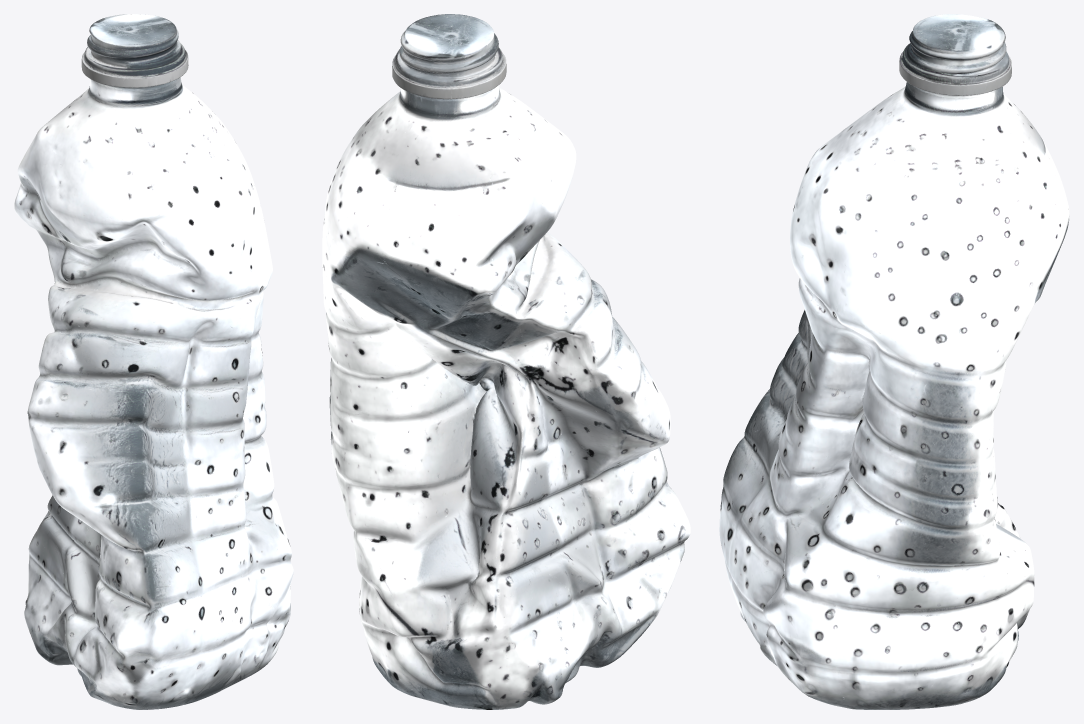
Rendered from Dirt_Bottle.glb.
3 views of the same model, side by side, from view 1: azimuth 30°, elevation 25°; view 2: azimuth 150°, elevation 25°; view 3: azimuth 270°, elevation 25° (orthographic). The views are drawn at different scales.
Parts seen in each view (by area): view 1: Mesh_0; view 2: Mesh_0; view 3: Mesh_0.
Boxes of the visible parts, bbox=[...] form: Mesh_0: bbox=[14, 14, 293, 709]; Mesh_0: bbox=[322, 14, 690, 709]; Mesh_0: bbox=[719, 14, 1069, 709].
Size of the model in its own units: 0.0875 by 0.2 by 0.0983.
Materials: 1 (1 with a texture image).
